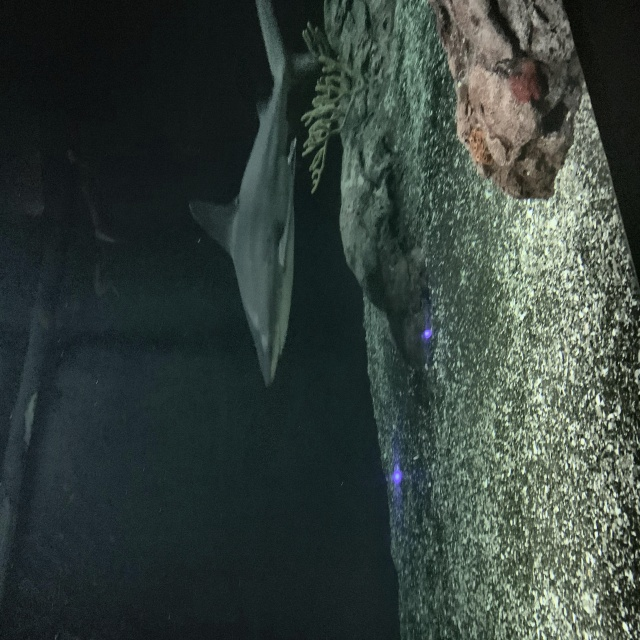shark: (186, 0, 320, 390)
